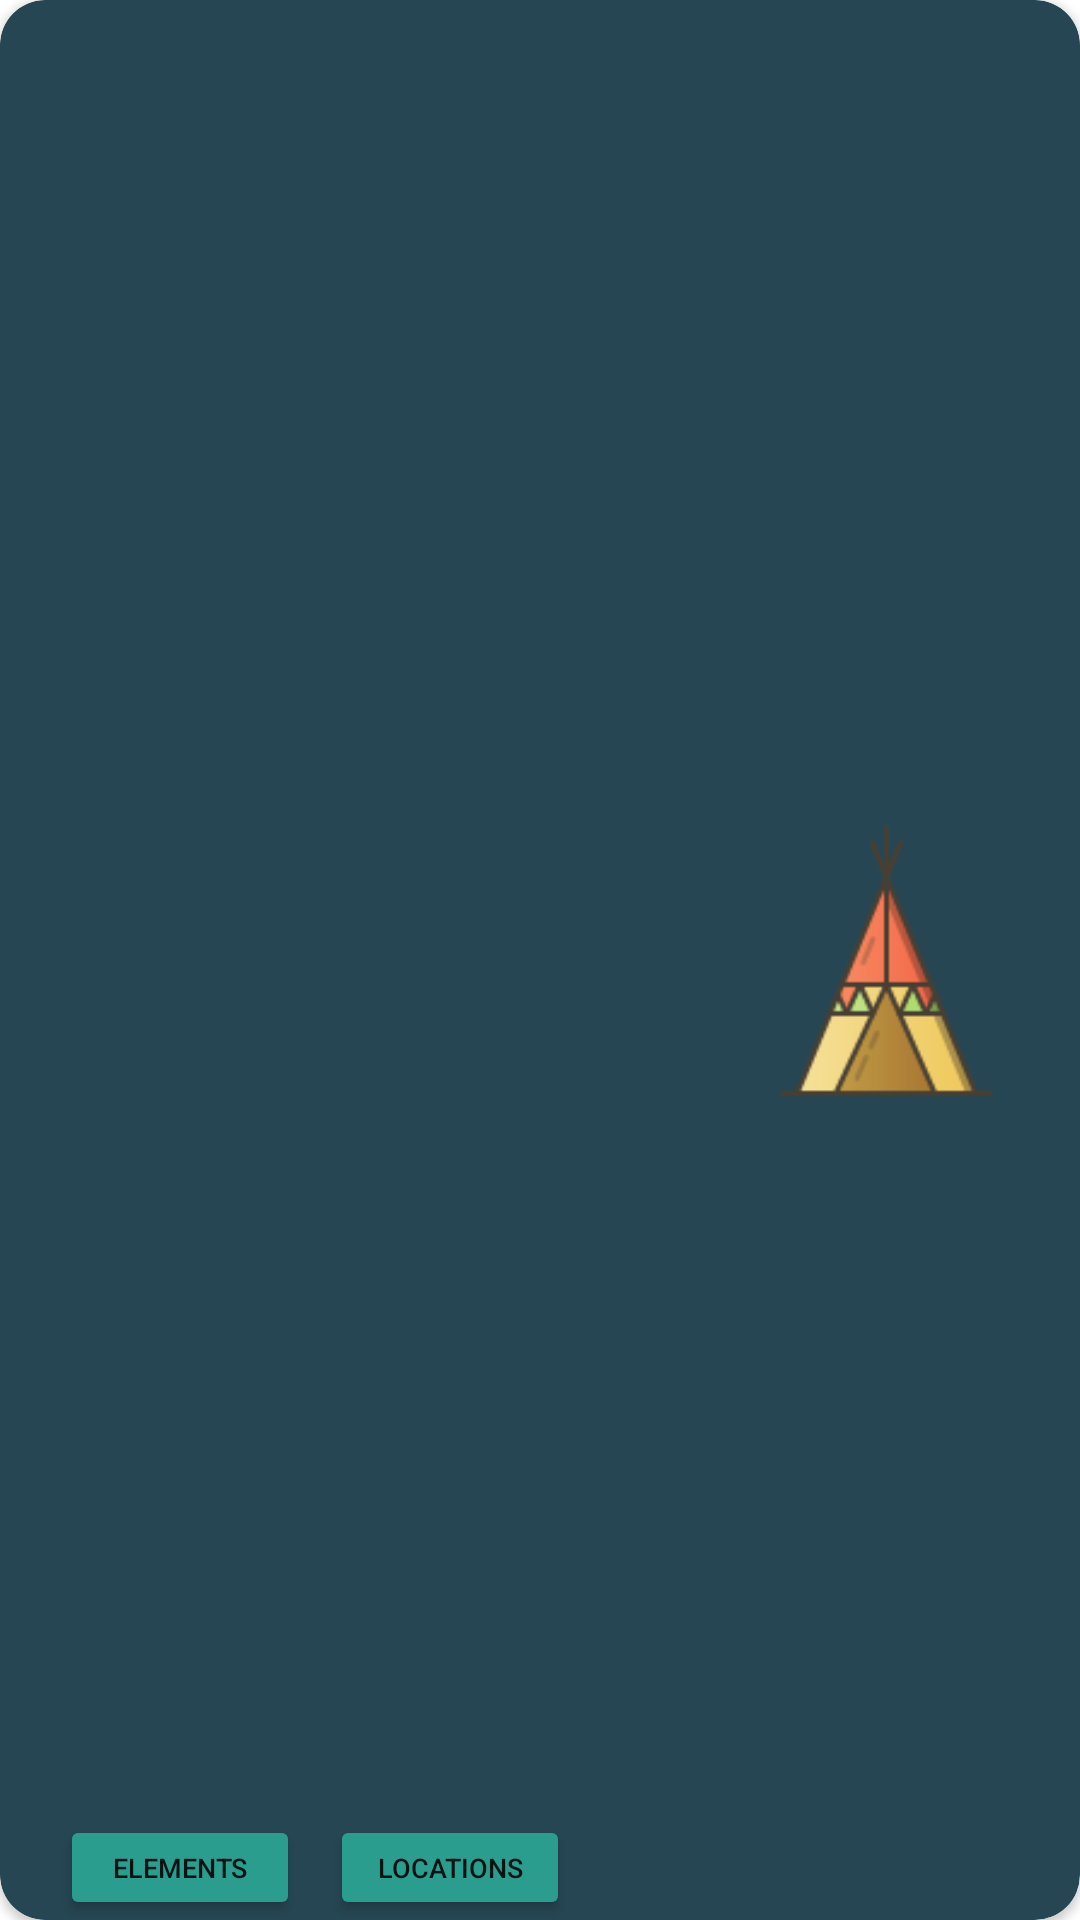

Icon click points for this 1080 × 1920 phone screenshot, format (x=x, y=y):
tipi: (x=886, y=961)
